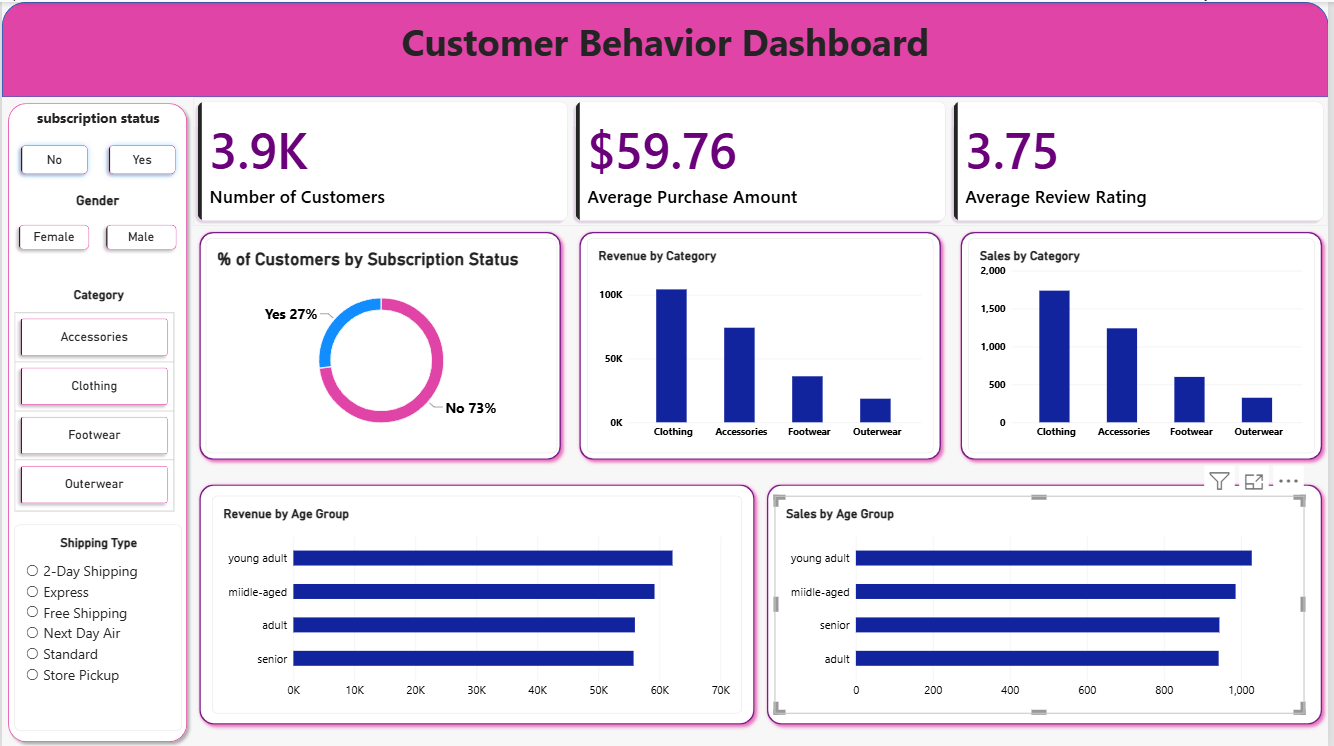

What the dashboard file says about the page in this screenshot:
{"tool":"powerbi","page":{"name":"Page 1","canvas":[1920,1080],"ordinal":0},"visuals":[{"type":"cardVisual","fields":{"Data":["public customer.Number of Customers","public customer.Average Purchase Amount","public customer.Average Review Rating"]},"box":[276.9,137.5,1643.2,186.4],"z":0},{"type":"shape","box":[0,0,1920.4,137.9],"z":1000},{"type":"textbox","box":[0,20.6,1920.4,117.3],"z":2000},{"type":"shape","box":[276.9,323.9,541.3,347.9],"z":3000},{"type":"donutChart","title":"% of Customers by Subscription Status","fields":{"Category":["public customer.subscription_status"],"Y":["CountNonNull(public customer.customer_id)"]},"box":[295,342,508.5,311.3],"z":4000},{"type":"shape","box":[827,323.9,541.3,347.9],"z":5000},{"type":"shape","box":[1379,323.9,541.3,347.9],"z":6000},{"type":"clusteredColumnChart","title":" Revenue by Category","fields":{"Category":["public customer.category"],"Y":["Sum(public customer.purchase_amount)"]},"box":[846.9,342,501.3,311.3],"z":7000},{"type":"clusteredColumnChart","title":"Sales by Category","fields":{"Category":["public customer.category"],"Y":["CountNonNull(public customer.customer_id)"]},"box":[1398.9,342,501.3,311.3],"z":8000},{"type":"shape","box":[0,137.5,276.9,942.8],"z":9000},{"type":"advancedSlicerVisual","title":"subscription status","fields":{"Values":["public customer.subscription_status"]},"box":[16.3,153.8,246.1,106.8],"z":10000},{"type":"advancedSlicerVisual","title":"Category","fields":{"Values":["public customer.category"]},"box":[18.1,412.6,244.3,327.5],"z":11000},{"type":"advancedSlicerVisual","title":"Gender","fields":{"Values":["public customer.gender"]},"box":[16.3,276.9,244.3,90.5],"z":12000},{"type":"listSlicer","title":"Shipping Type","fields":{"Values":["public customer.shipping_type"]},"box":[18.1,756.4,242.5,298.6],"z":12001},{"type":"shape","box":[276.9,689.5,821.6,365.6],"z":12002},{"type":"clusteredBarChart","title":"Revenue by Age Group","fields":{"Category":["public customer.age_group"],"Y":["Sum(public customer.purchase_amount)"]},"box":[304,714.8,767.3,314.9],"z":12003},{"type":"shape","box":[1098.5,689.5,821.6,365.6],"z":12004},{"type":"clusteredBarChart","title":"Sales by Age Group","fields":{"Category":["public customer.age_group"],"Y":["CountNonNull(public customer.customer_id)"]},"box":[1118.4,714.8,767.3,314.9],"z":12005}]}

Visuals, with their boxes in screenshot pixels (x1, y1, x2, y2), scaled from the page's 1920x1080 canvas onto the 1334x746 screenshot:
cardVisual - public customer.Number of Customers x public customer.Average Purchase Amount: pyautogui.locateOnScreen(192, 95, 1333, 224)
shape: pyautogui.locateOnScreen(0, 0, 1333, 95)
textbox: pyautogui.locateOnScreen(0, 14, 1333, 95)
shape: pyautogui.locateOnScreen(192, 224, 568, 464)
"% of Customers by Subscription Status" donutChart: pyautogui.locateOnScreen(205, 236, 558, 451)
shape: pyautogui.locateOnScreen(575, 224, 951, 464)
shape: pyautogui.locateOnScreen(958, 224, 1333, 464)
" Revenue by Category" clusteredColumnChart: pyautogui.locateOnScreen(588, 236, 937, 451)
"Sales by Category" clusteredColumnChart: pyautogui.locateOnScreen(972, 236, 1320, 451)
shape: pyautogui.locateOnScreen(0, 95, 192, 745)
"subscription status" advancedSlicerVisual: pyautogui.locateOnScreen(11, 106, 182, 180)
"Category" advancedSlicerVisual: pyautogui.locateOnScreen(13, 285, 182, 511)
"Gender" advancedSlicerVisual: pyautogui.locateOnScreen(11, 191, 181, 254)
"Shipping Type" listSlicer: pyautogui.locateOnScreen(13, 522, 181, 729)
shape: pyautogui.locateOnScreen(192, 476, 763, 729)
"Revenue by Age Group" clusteredBarChart: pyautogui.locateOnScreen(211, 494, 744, 711)
shape: pyautogui.locateOnScreen(763, 476, 1333, 729)
"Sales by Age Group" clusteredBarChart: pyautogui.locateOnScreen(777, 494, 1310, 711)
